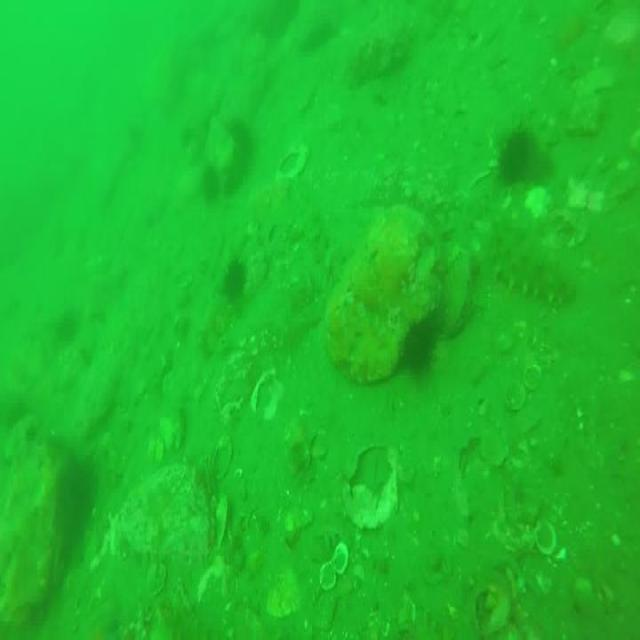echinus: (499, 126, 536, 185), (403, 319, 438, 376), (225, 254, 243, 302), (202, 164, 218, 206)
holothurian: (487, 222, 573, 306)
scallop: (503, 362, 544, 414), (196, 434, 234, 484), (319, 542, 352, 588), (290, 427, 330, 463), (208, 493, 229, 548), (145, 561, 170, 597), (156, 416, 184, 447), (532, 523, 556, 556)
